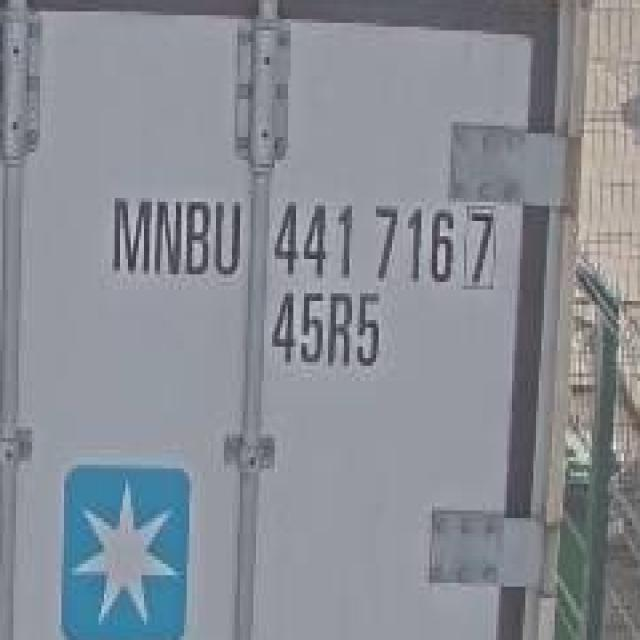dv: (457, 198, 501, 294)
owner: (95, 183, 244, 283)
serial: (270, 193, 455, 288)
size: (269, 288, 387, 373)
